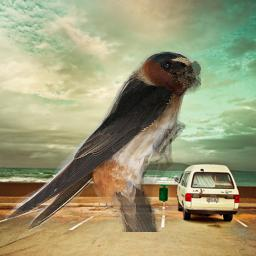Swallow: (5, 51, 201, 232)
